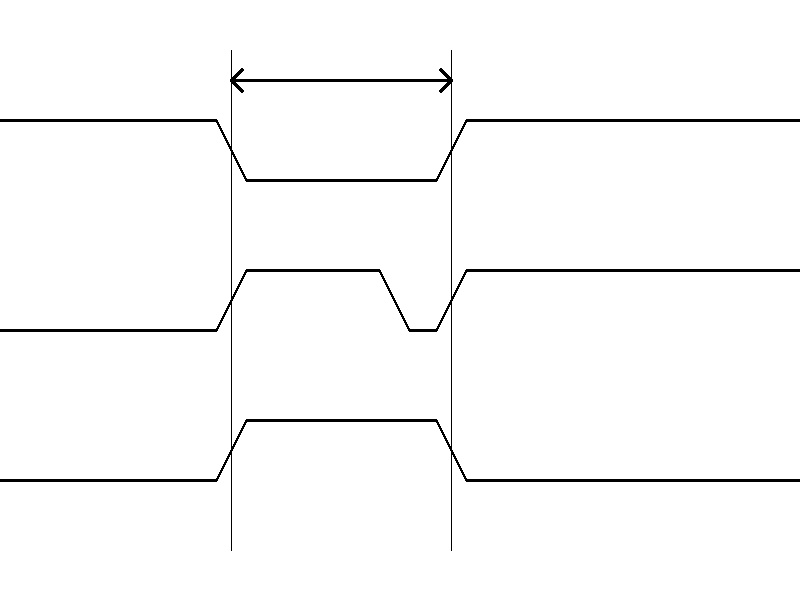double_arrow: (231, 65, 451, 95)
